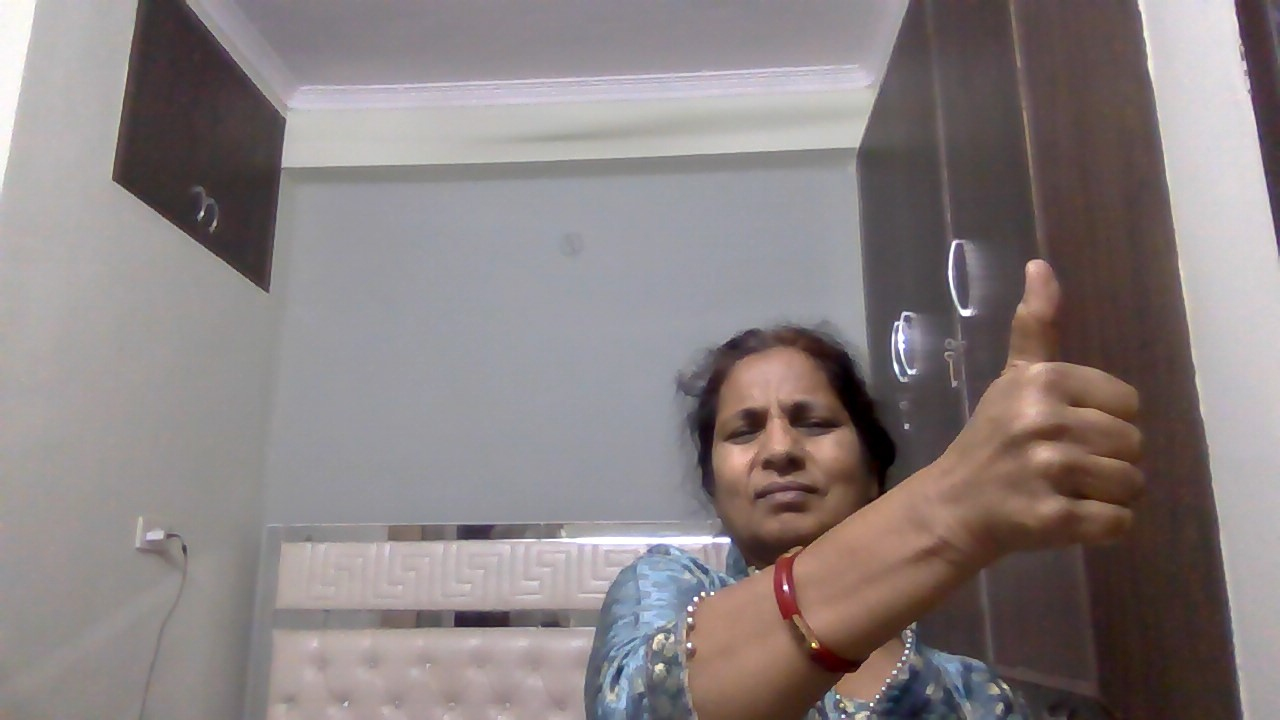Save: (942, 249, 1161, 569)
